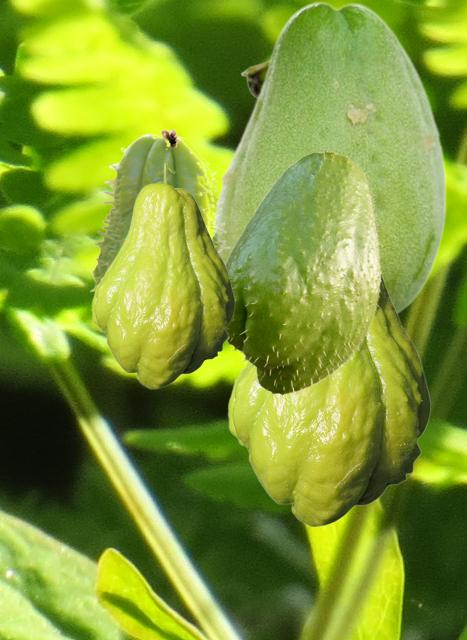sayote: (215, 0, 446, 314), (227, 275, 430, 526), (224, 150, 382, 397), (91, 160, 234, 388), (89, 128, 229, 292), (240, 61, 267, 98)
